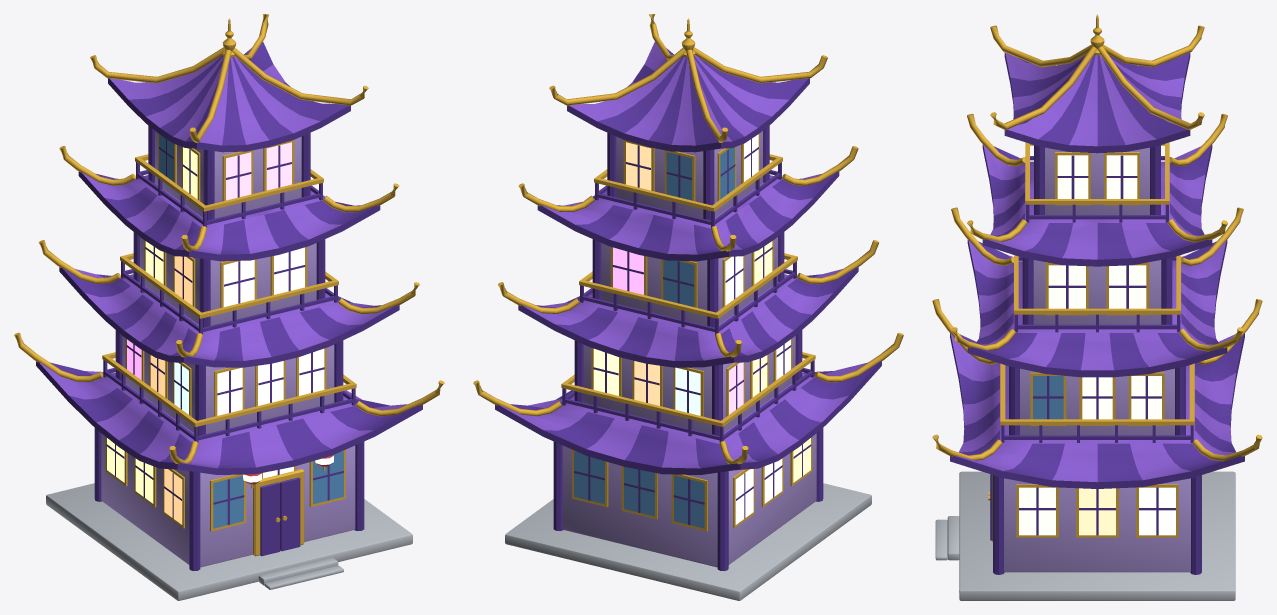
Rendered from pagode_pequeno_roxo.glb.
The picture shows the model from 3 angles, left to right: view 1: azimuth 30°, elevation 25°; view 2: azimuth 150°, elevation 25°; view 3: azimuth 270°, elevation 25°; orthographic projection. The views are drawn at different scales.
Parts seen in each view (by area): view 1: pagode_pequeno_roxo; view 2: pagode_pequeno_roxo; view 3: pagode_pequeno_roxo.
Part boxes in pixels (x1,y1,x2,y2): pagode_pequeno_roxo: (14, 14, 444, 600); pagode_pequeno_roxo: (473, 14, 903, 600); pagode_pequeno_roxo: (932, 14, 1262, 600).
Bounding box in the file's own units: 9.53 × 16.85 × 9.56.
Materials: 7 (1 with a texture image).
